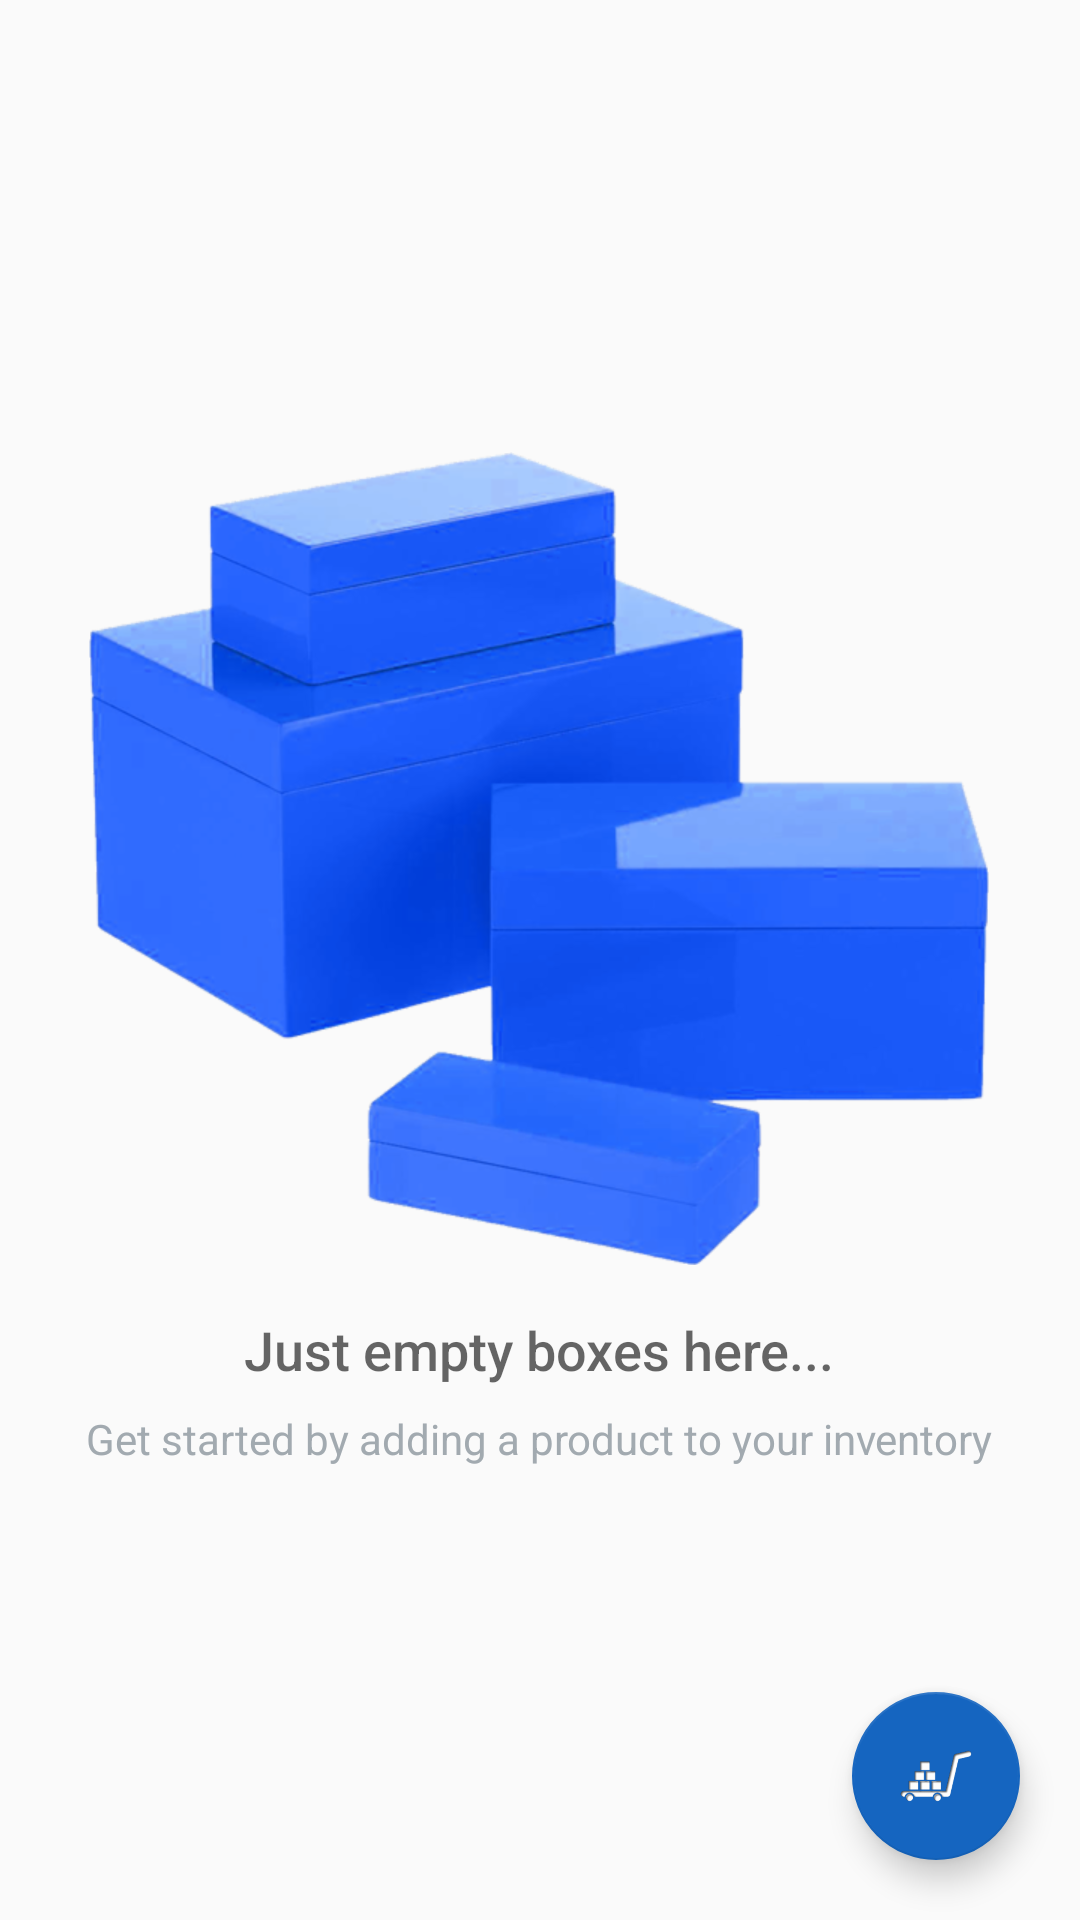

Where icons sit on this 1080x1920 app screen, as (x1,y1,x2,y2):
fab items: (852,1692,1020,1860)
